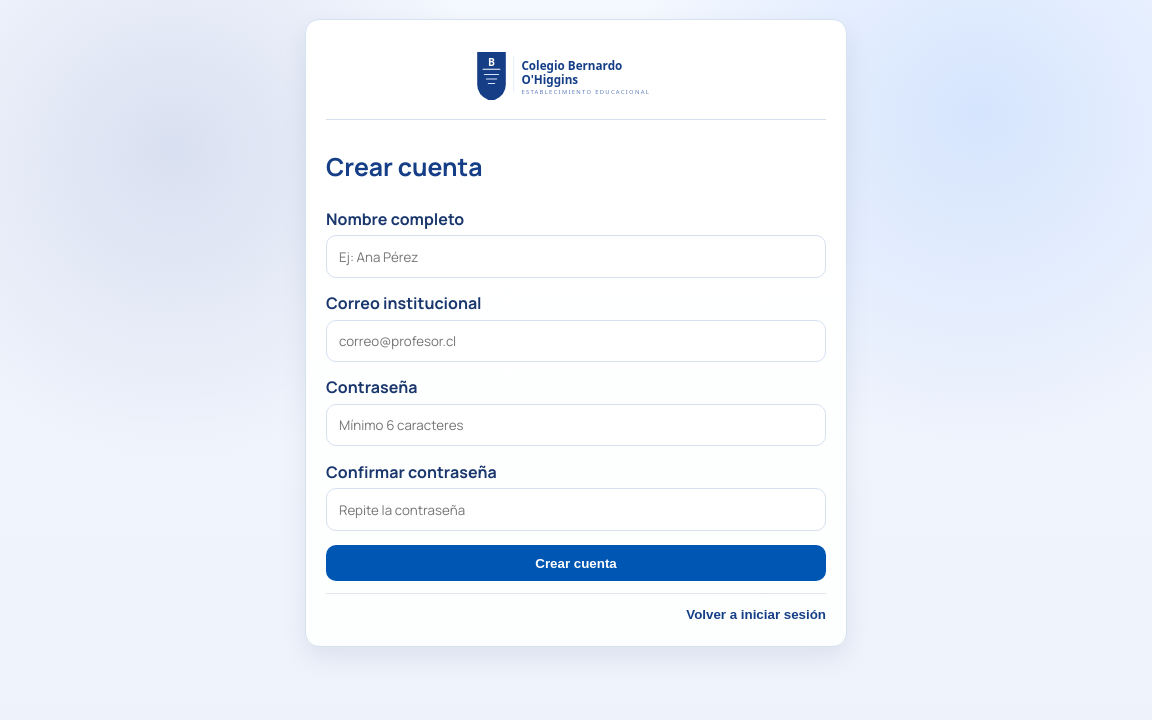
Register — flujo exitoso › muestra mensaje de éxito al registrarse correctamente
In the field labelled "Nombre completo": (576, 256) x1=326 y1=235 x2=826 y2=278, type "Ana López"
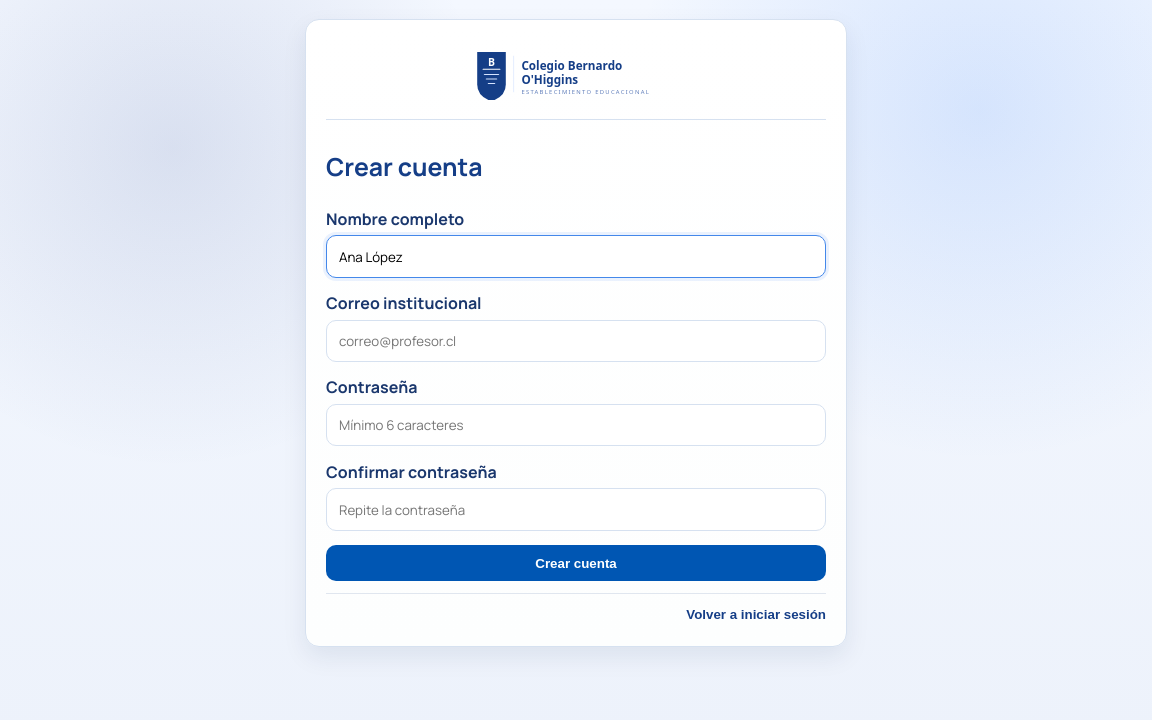
In the field labelled "Correo institucional": (576, 341) x1=326 y1=320 x2=826 y2=362, type "ana@profesor.cl"
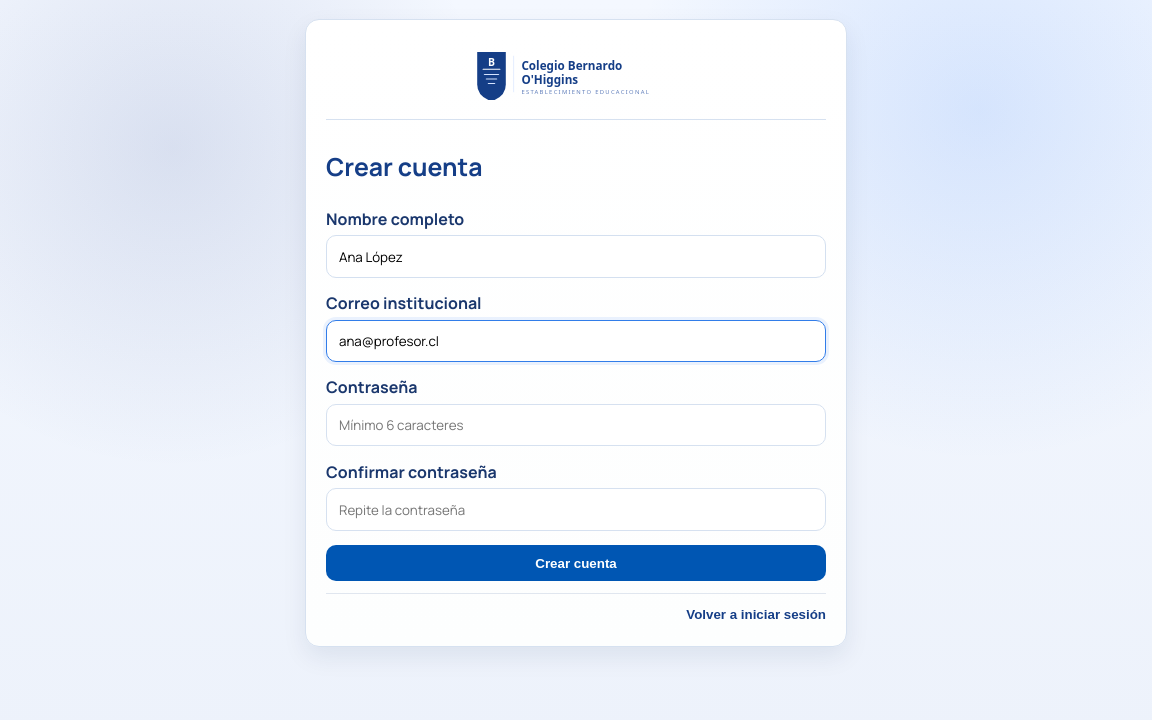
In the password field labelled "Contraseña": (576, 425) x1=326 y1=404 x2=826 y2=446, type "clave123"
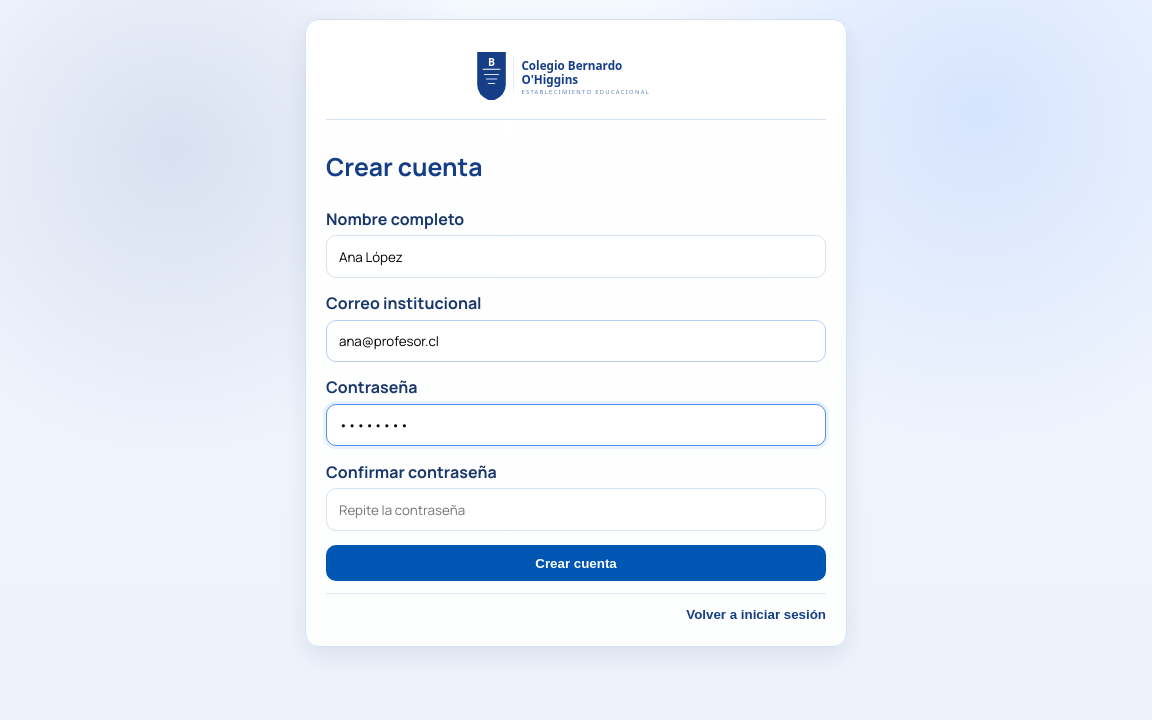
In the password field labelled "Confirmar contraseña": (576, 510) x1=326 y1=488 x2=826 y2=531, type "clave123"
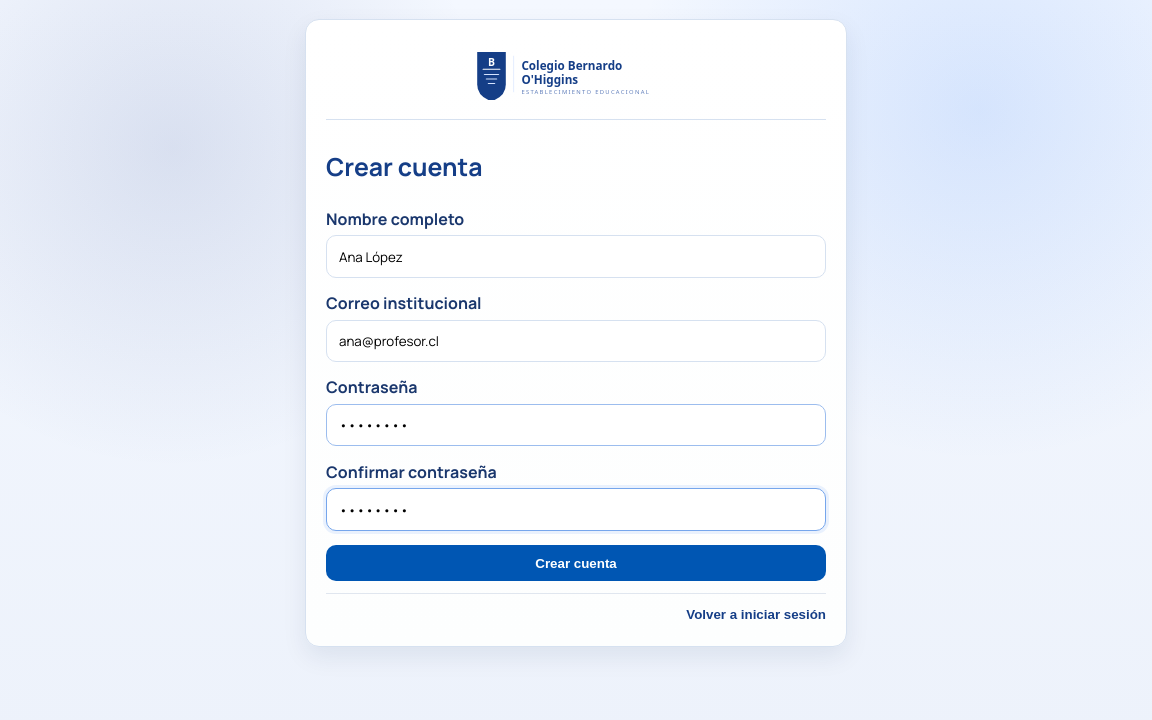
Click the button "Crear cuenta": click(576, 563) x1=326 y1=545 x2=826 y2=581
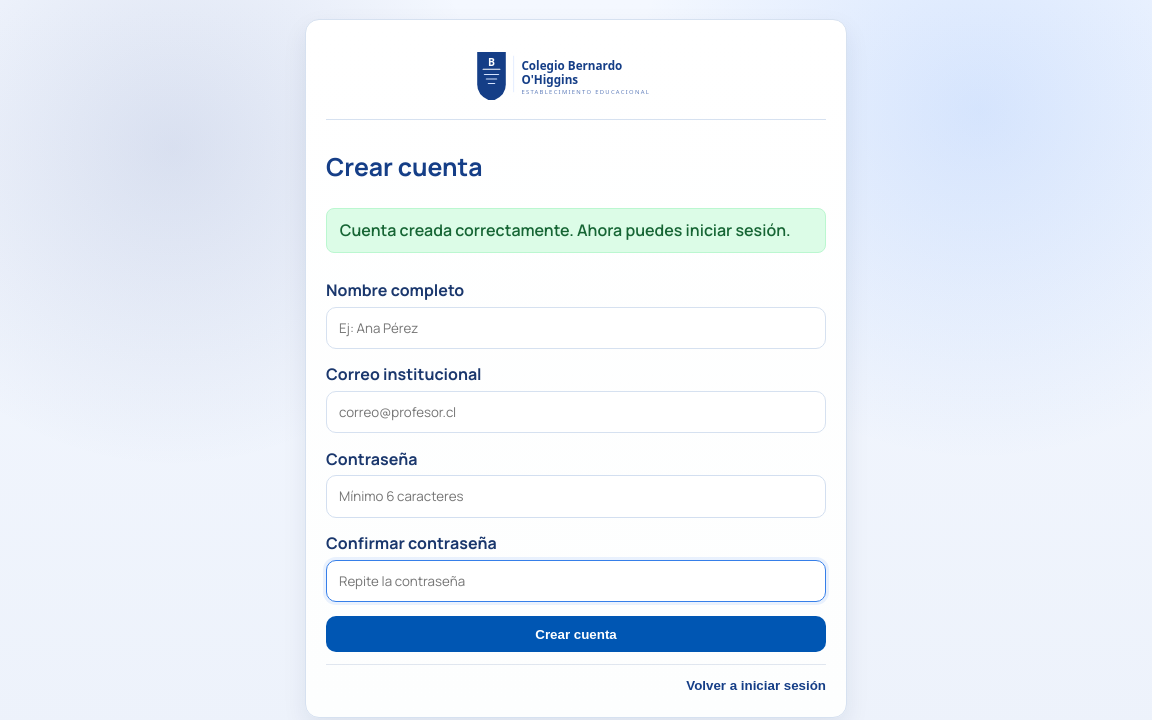
Expected: the text "Cuenta creada correctamente. Ahora puedes iniciar sesión." is shown, x1=326 y1=208 x2=826 y2=252
